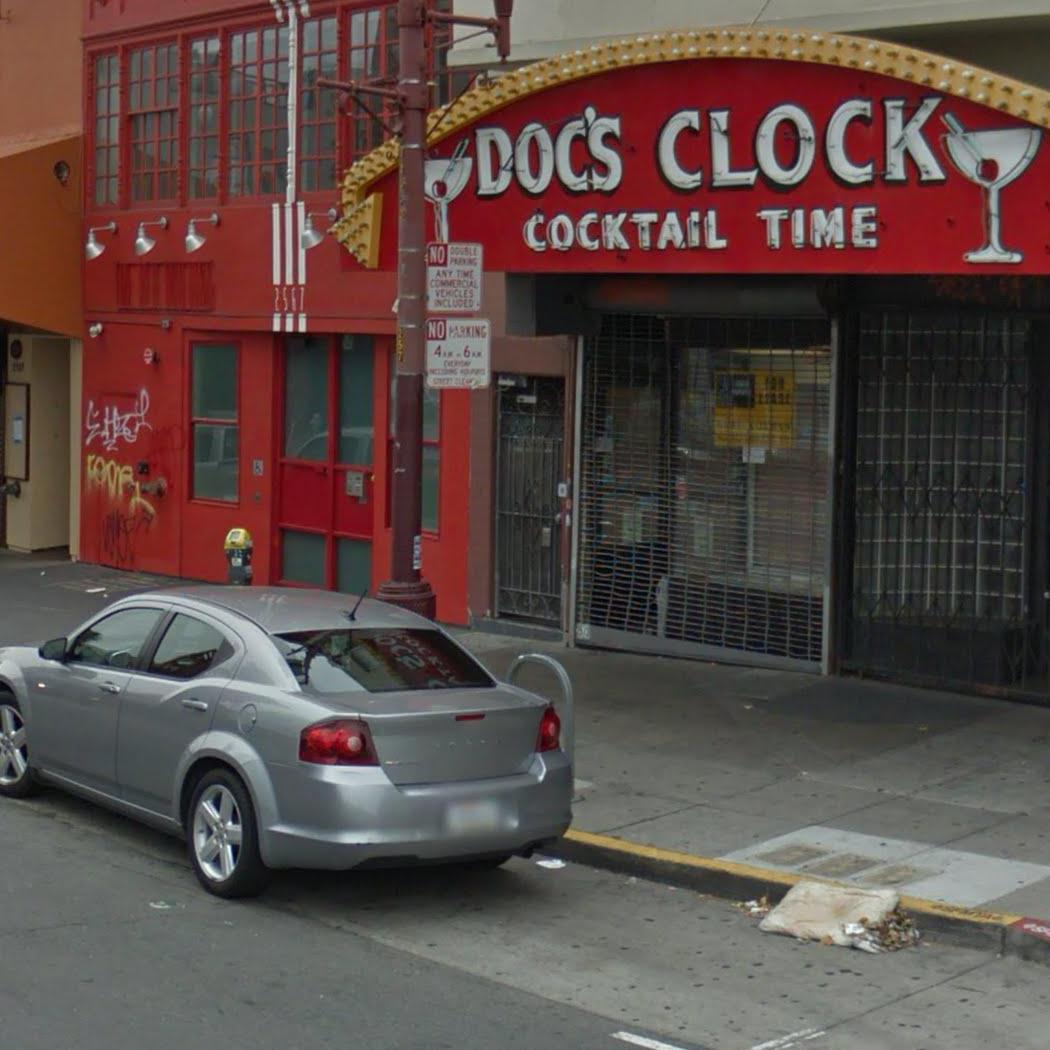No Parking: (421, 316, 496, 393)
No Parking Anytime: (421, 240, 486, 314)
